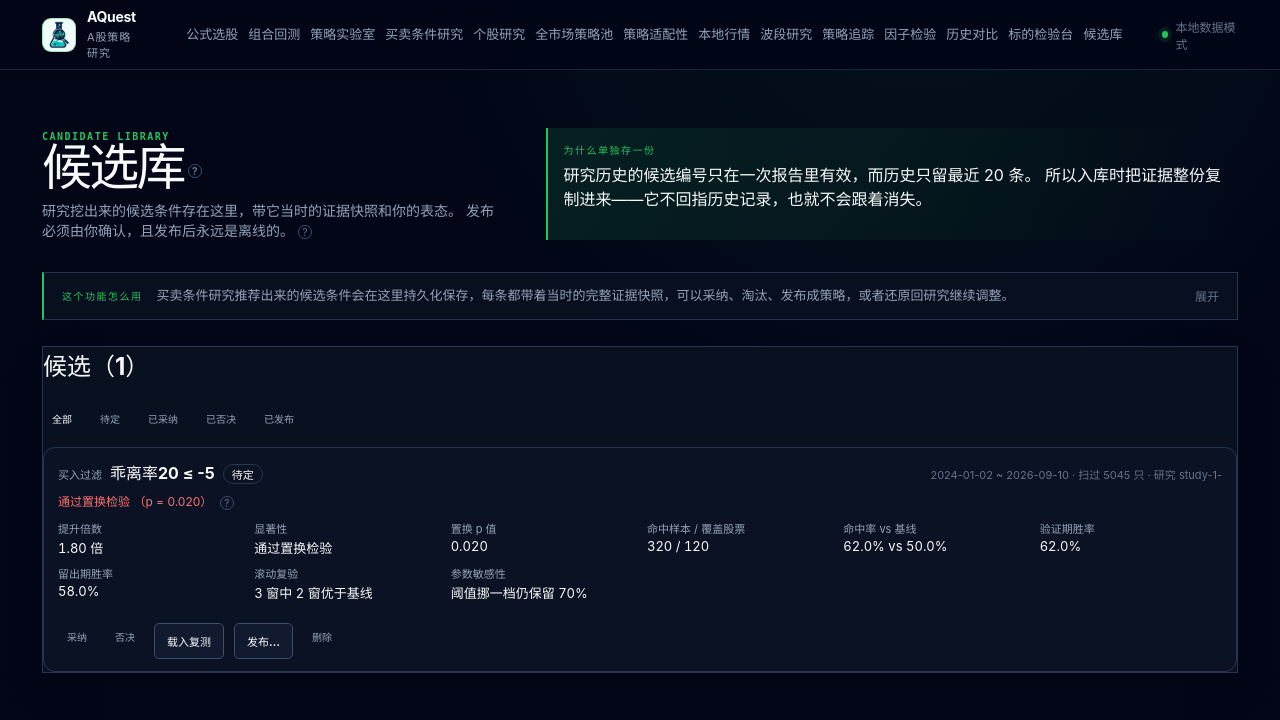
Test case: CandidateLibraryPage › refuses to publish before adoption and says why
Click the button with test id "candidate-publish-open-c1" at [264, 641], box [234,623,293,659]
(page scrolled)
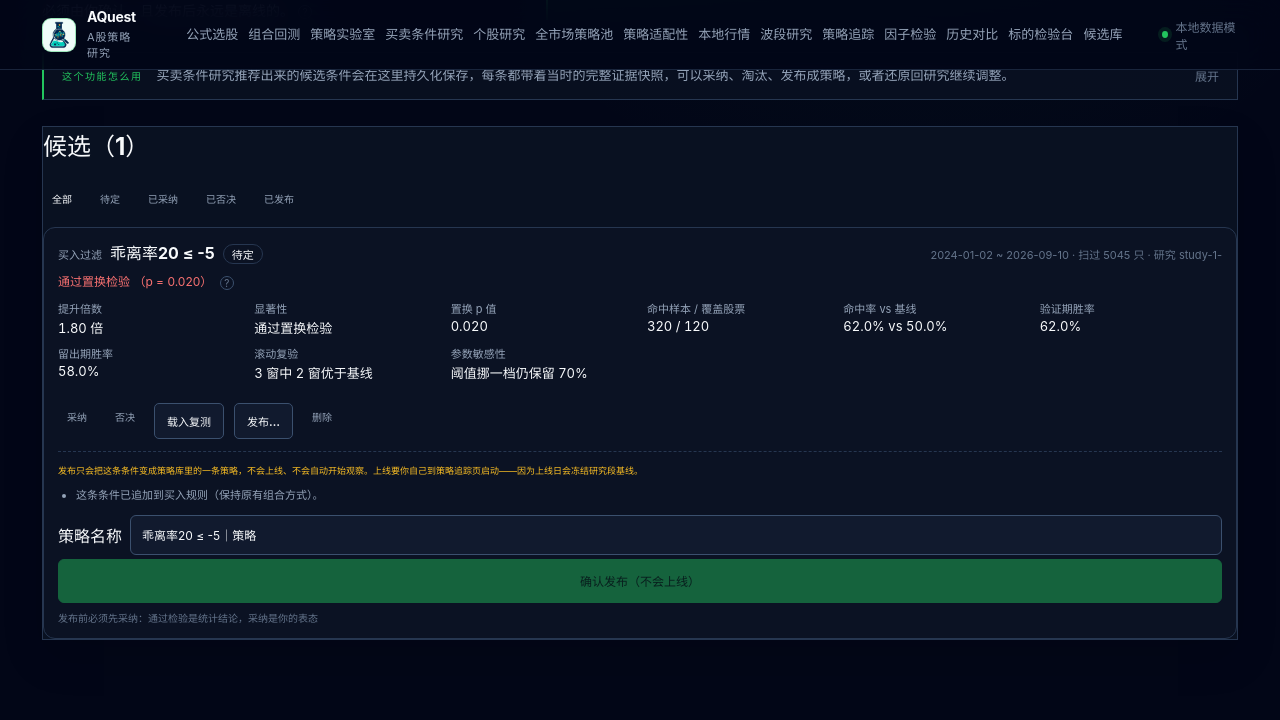
expect the text with test id "publish-blocked-reason" shows "先采纳": met, box [58,612,318,624]
expect the button with test id "candidate-publish-confirm-c1" is disabled: met, box [58,559,1222,603]
